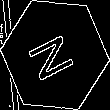N_NE: (27, 26, 83, 84)
